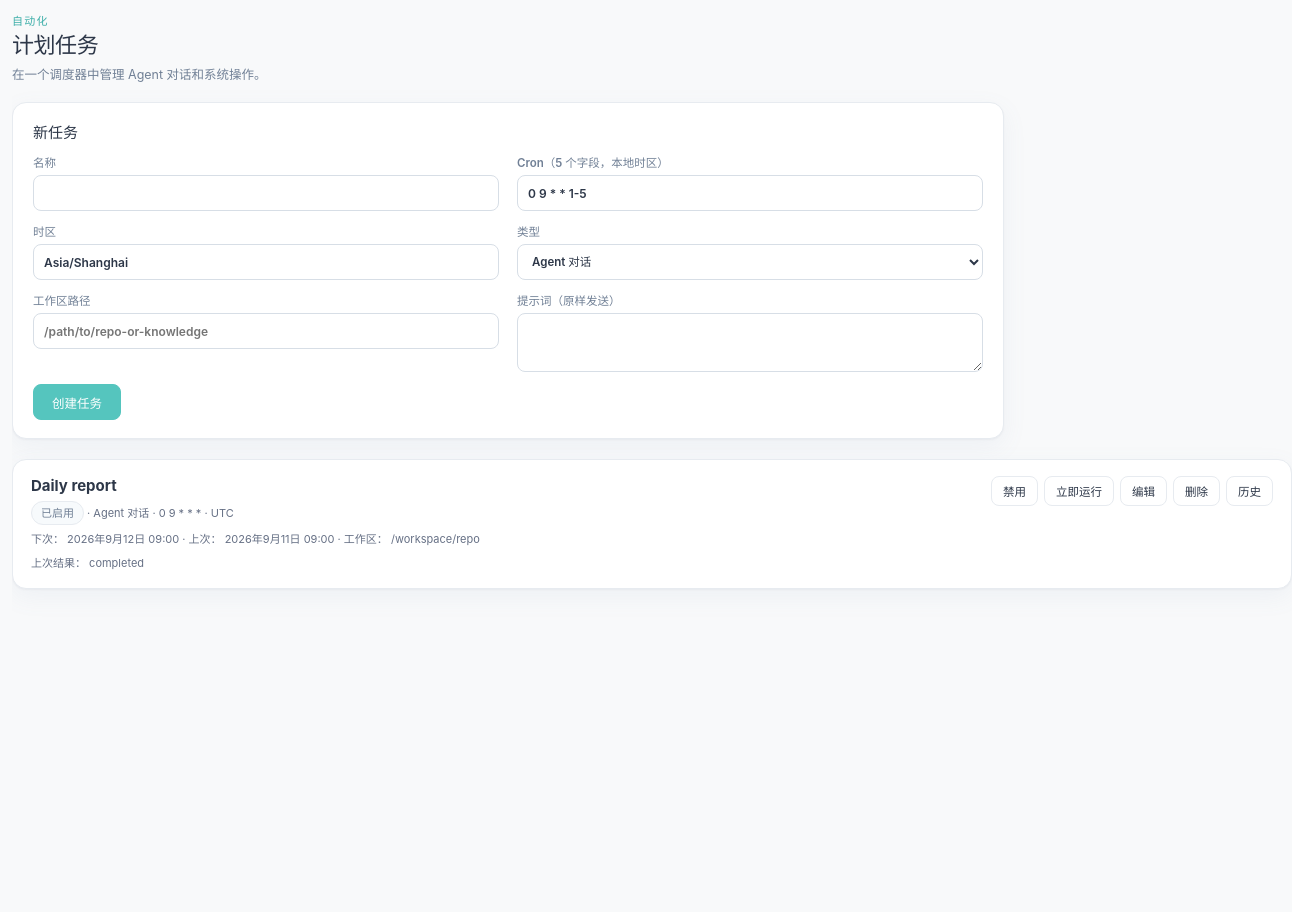
Scenario: ScheduledTasksPage history › localizes schedule chrome while preserving task data and formatted dates
Expected: the heading "计划任务" is shown, [12, 32, 98, 58]
Expected: the heading "Daily report" is shown, [31, 476, 117, 495]
Click the button "历史": (1250, 491) [1226, 476, 1273, 506]
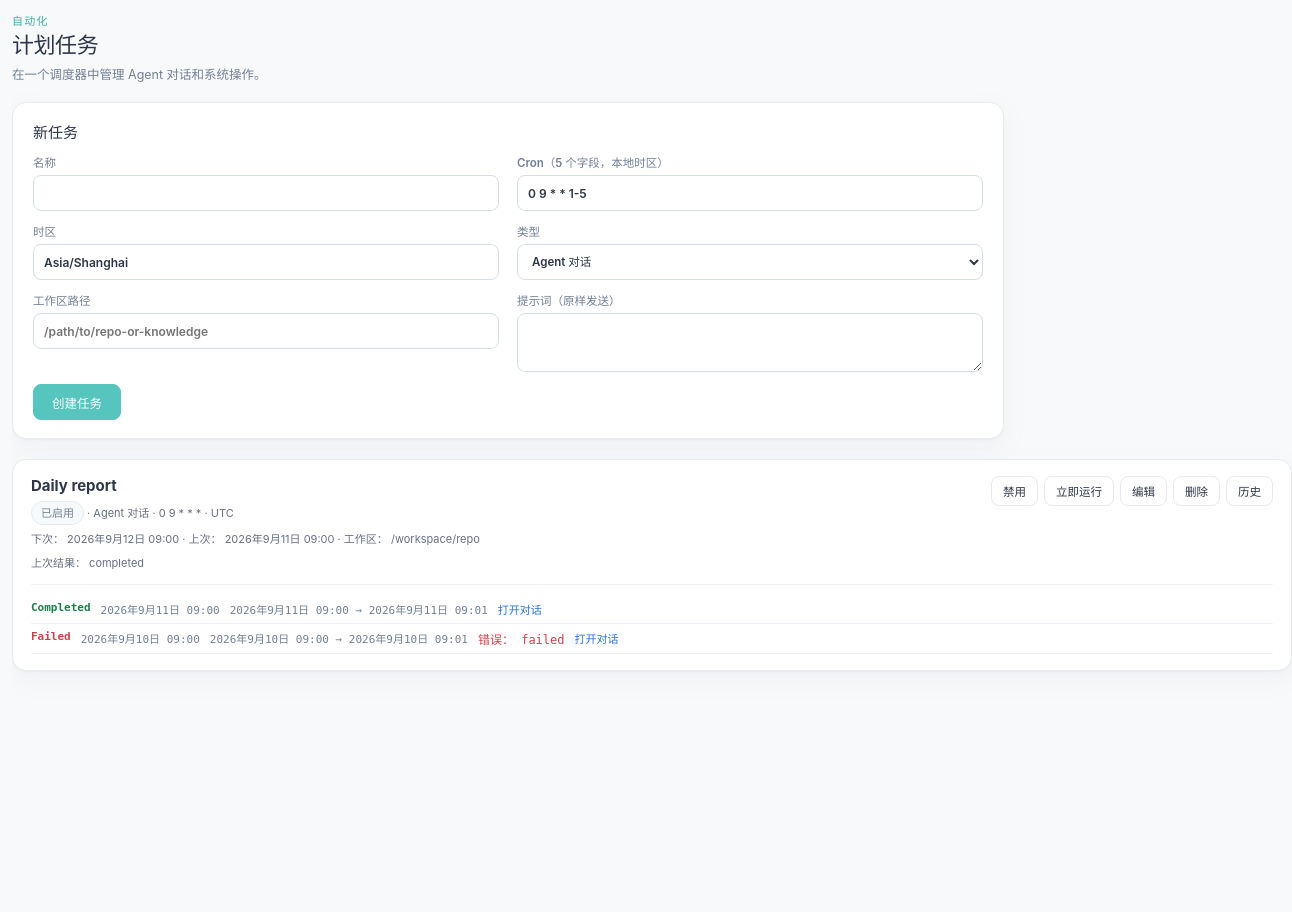
Expected: the text "failed" is shown, [31, 630, 71, 647]
Expected: the text "错误： failed" is shown, [478, 630, 564, 647]
